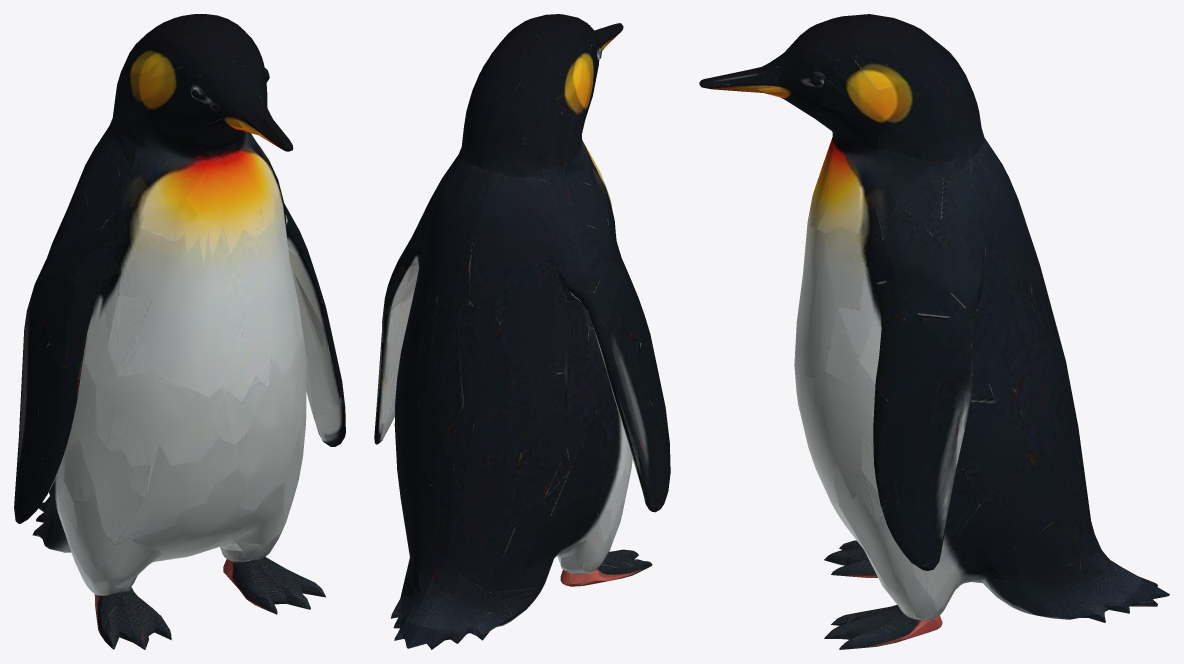
File: penguin.glb
3 renders of one model, left to right at view 1: azimuth 30°, elevation 25°; view 2: azimuth 150°, elevation 25°; view 3: azimuth 270°, elevation 25°, orthographic. The views are drawn at different scales.
Bounding box in the file's own units: 1.07 × 1.9 × 1.4.
Materials: 1 (1 with a texture image).
